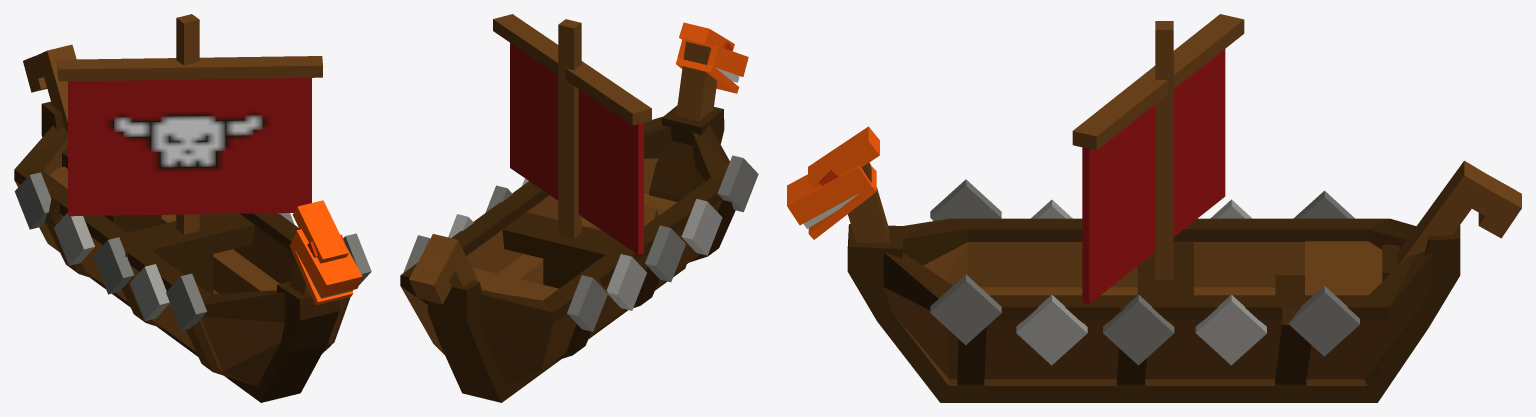
File: vikingtroopship.fbx
3 renders of one model, left to right at view 1: azimuth 30°, elevation 25°; view 2: azimuth 150°, elevation 25°; view 3: azimuth 270°, elevation 25°, orthographic. The views are drawn at different scales.
Visible parts, largest first — view 1: polySurface6; view 2: polySurface6; view 3: polySurface6.
Part boxes in pixels (x1,y1,x2,y2): polySurface6: (14,14,371,402); polySurface6: (400,14,758,402); polySurface6: (787,14,1521,402).
Size of the model in its own units: 112 by 157 by 284.
1 material, 1 textured.
